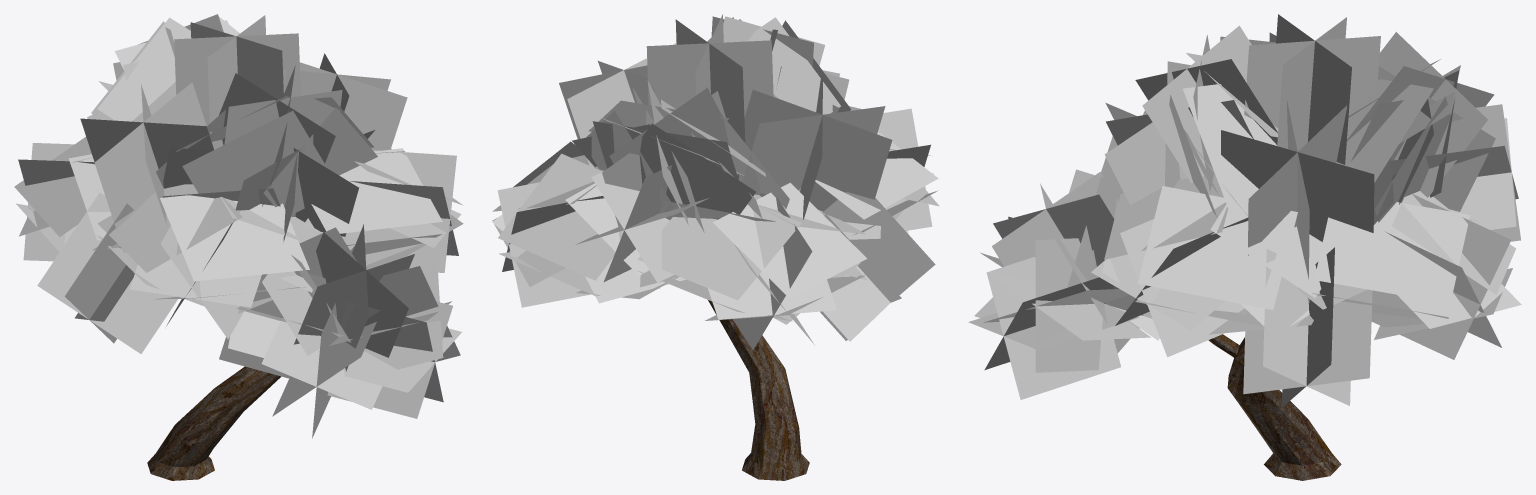
Rendered from SM_tree_c_baby.fbx.
3 views of the same model, side by side, from view 1: azimuth 30°, elevation 25°; view 2: azimuth 150°, elevation 25°; view 3: azimuth 270°, elevation 25° (orthographic). The views are drawn at different scales.
Visible parts, largest first — view 1: G_tree_c_baby_LOD0; view 2: G_tree_c_baby_LOD0; view 3: G_tree_c_baby_LOD0.
Part boxes in pixels (x1,y1,x2,y2): G_tree_c_baby_LOD0: (14,14,463,480); G_tree_c_baby_LOD0: (492,14,939,480); G_tree_c_baby_LOD0: (968,14,1521,480).
Size of what is drawn, in the model's own units: 337 by 336 by 366.
